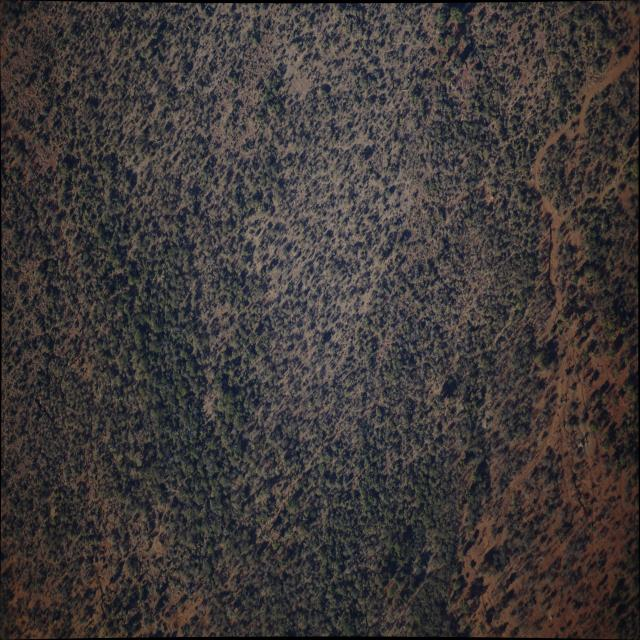elephant: (187, 25, 192, 30), (418, 34, 422, 40), (336, 350, 340, 355), (445, 34, 450, 38), (407, 76, 410, 81), (346, 319, 348, 325), (349, 339, 352, 341)
